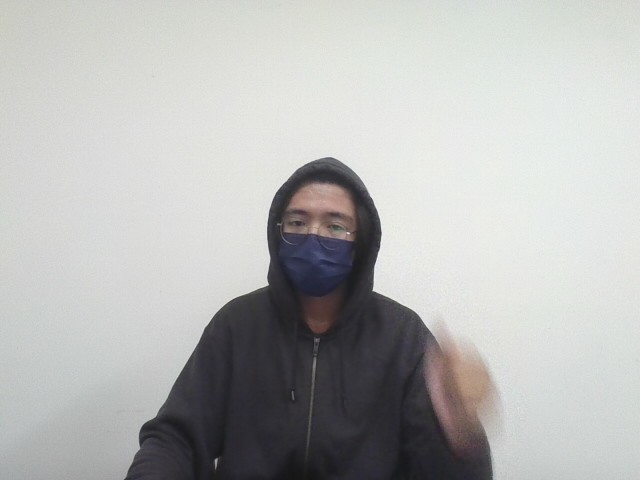No_Helmet: (262, 152, 383, 300)
person: (83, 134, 515, 480)
